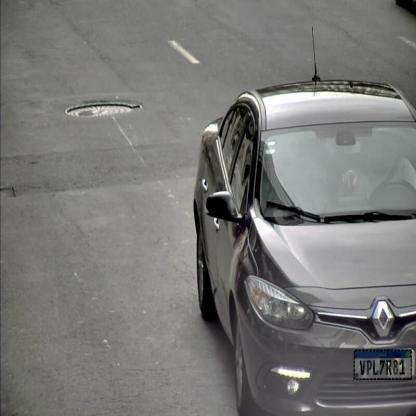PlacaM: (354, 349, 412, 380)
